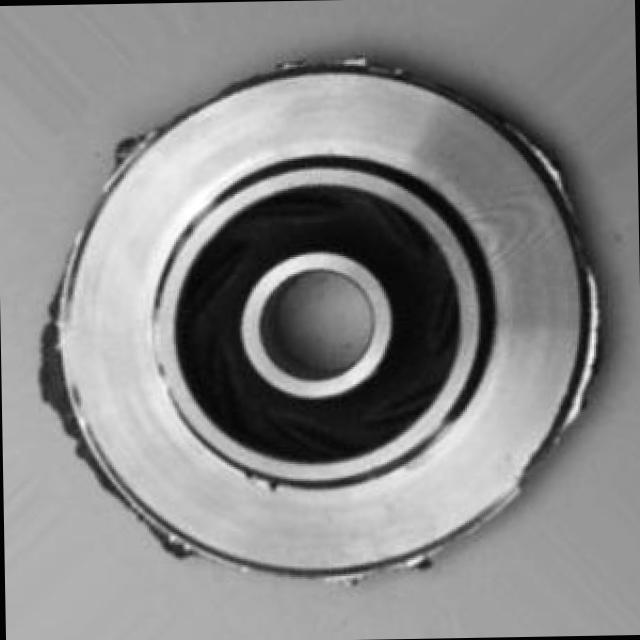Defect: (103, 126, 150, 161)
